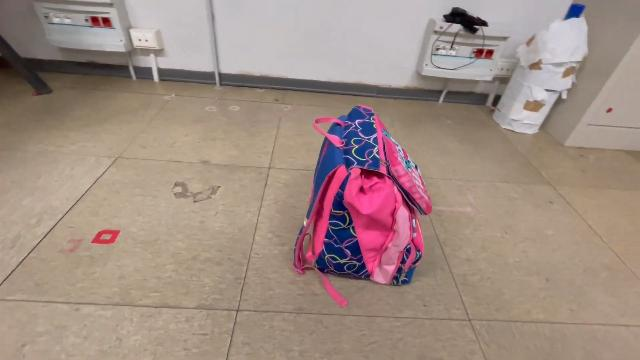Backpack: (286, 100, 436, 312)
